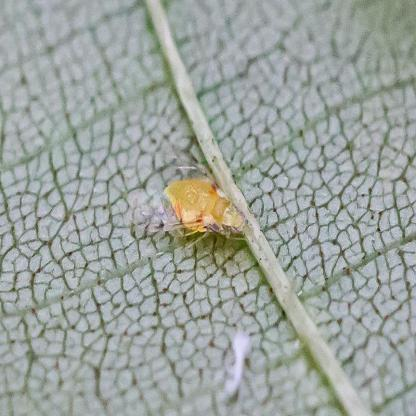aphid: (158, 154, 251, 265)
